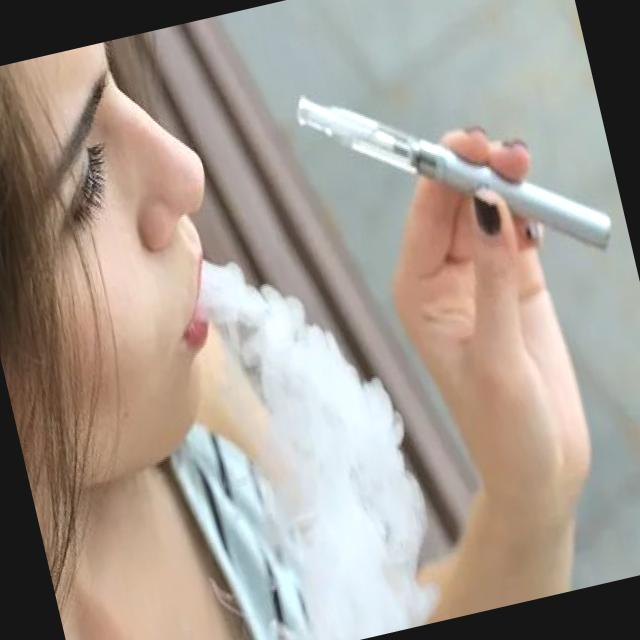cigarette: (284, 31, 622, 320)
